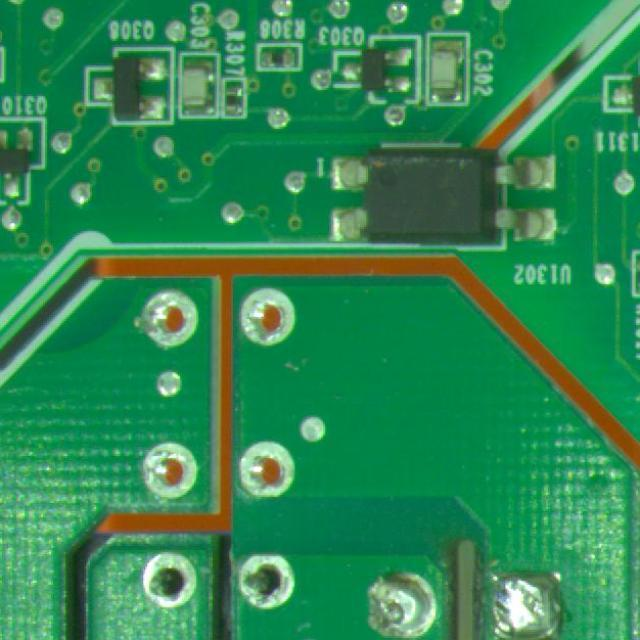Insufficient solder: (126, 536, 201, 614), (233, 431, 302, 504), (236, 544, 299, 616), (141, 285, 204, 354), (240, 282, 296, 350), (138, 439, 198, 502)
